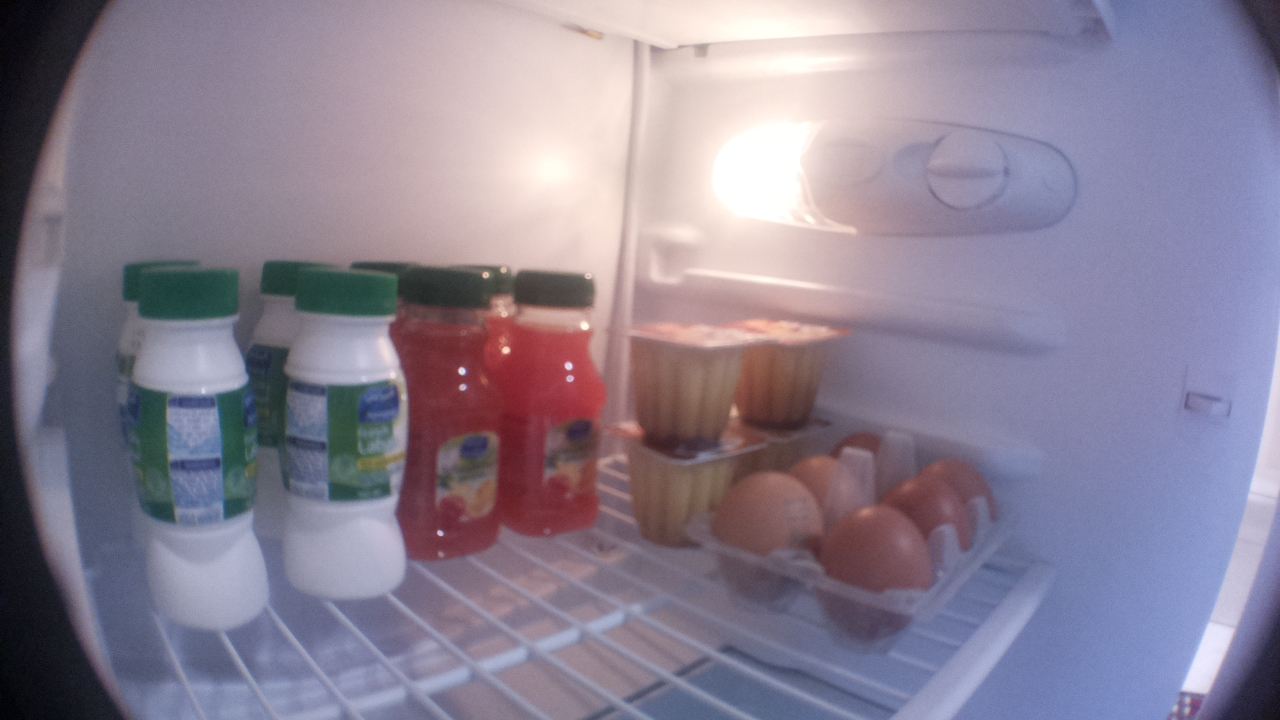caramel: (618, 320, 761, 452), (625, 431, 741, 554), (741, 317, 848, 432)
egg: (818, 506, 933, 644), (709, 467, 823, 568), (885, 475, 971, 554), (917, 453, 998, 514), (790, 447, 860, 510), (833, 428, 899, 465)
juice: (502, 260, 612, 546), (407, 264, 503, 563)
laban: (134, 253, 270, 644), (281, 275, 409, 596), (251, 258, 288, 407), (111, 252, 134, 409)
